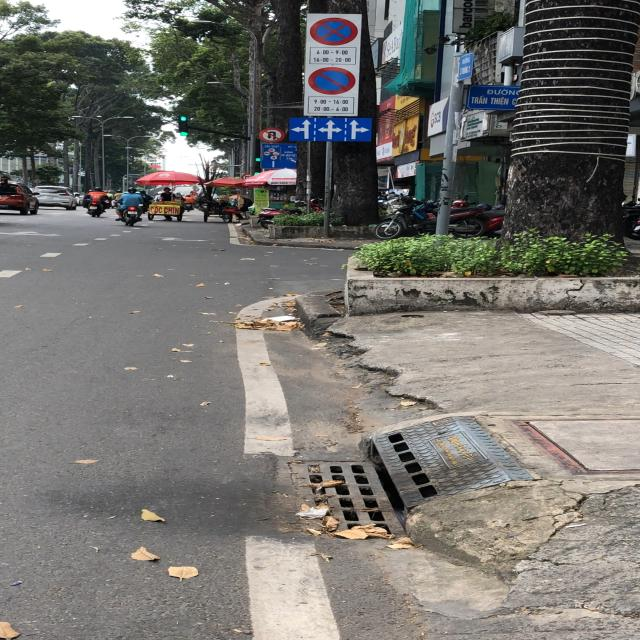Bien bao cam do xe: (309, 67, 358, 96)
Bien bao cam dung xe va do xe: (312, 18, 363, 47)
Bien bao cam quay dau xe: (258, 125, 292, 145)
